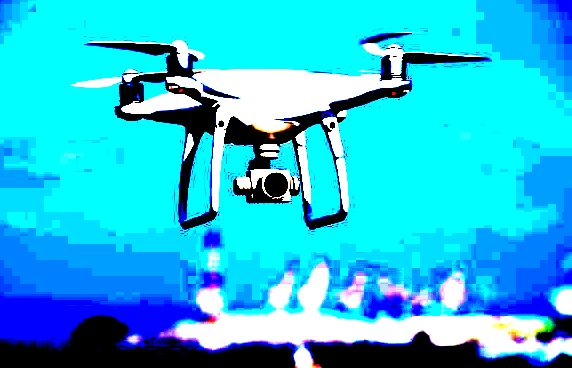Drone: (72, 28, 494, 234)
